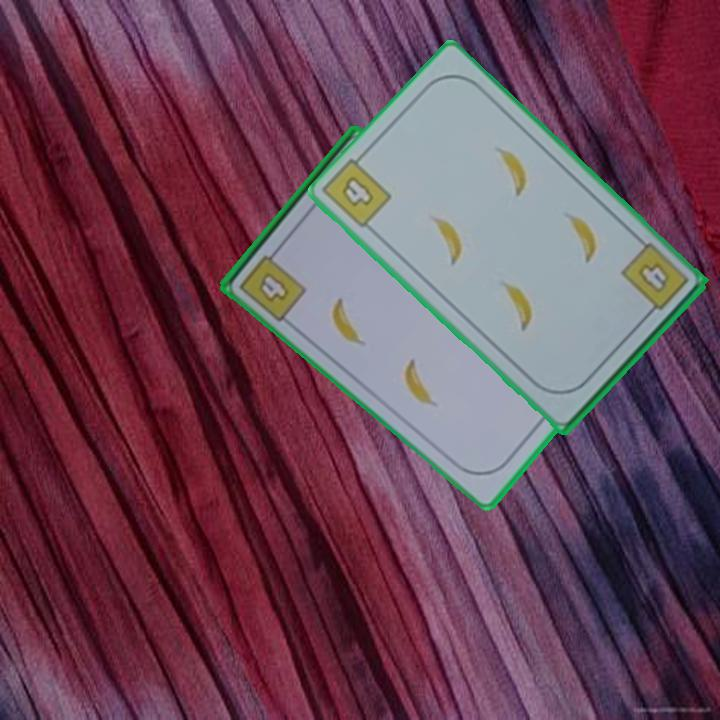4b: (617, 239, 692, 322), (337, 172, 377, 210), (255, 268, 293, 306)
